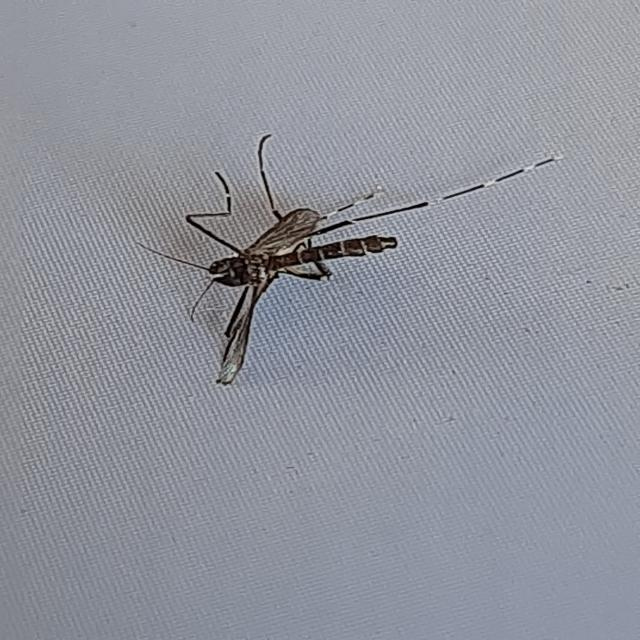albopictus: (130, 126, 432, 384)
